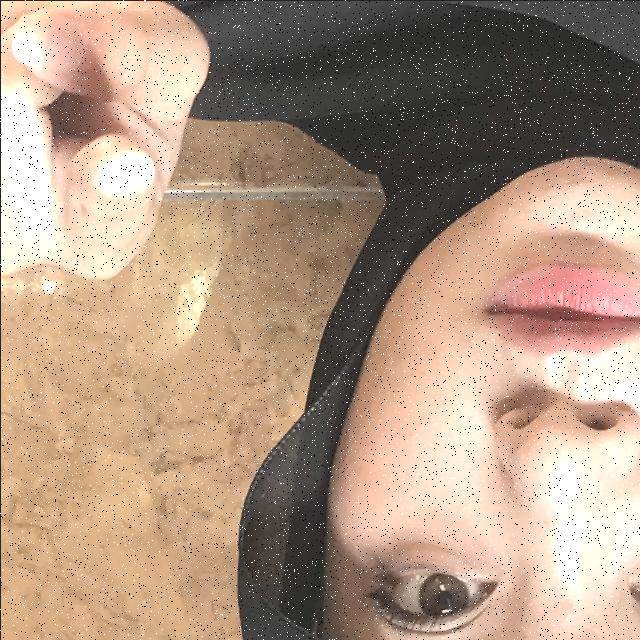kamu: (0, 0, 255, 354)
